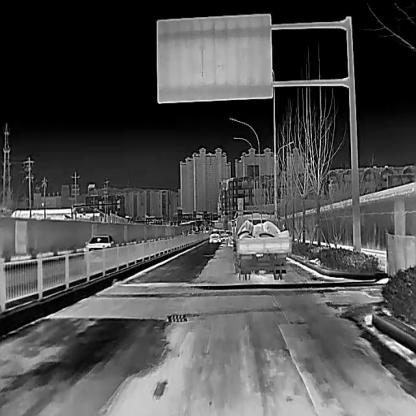car: (84, 234, 115, 262), (209, 230, 220, 243), (227, 229, 233, 245)
truck: (233, 208, 291, 280)
